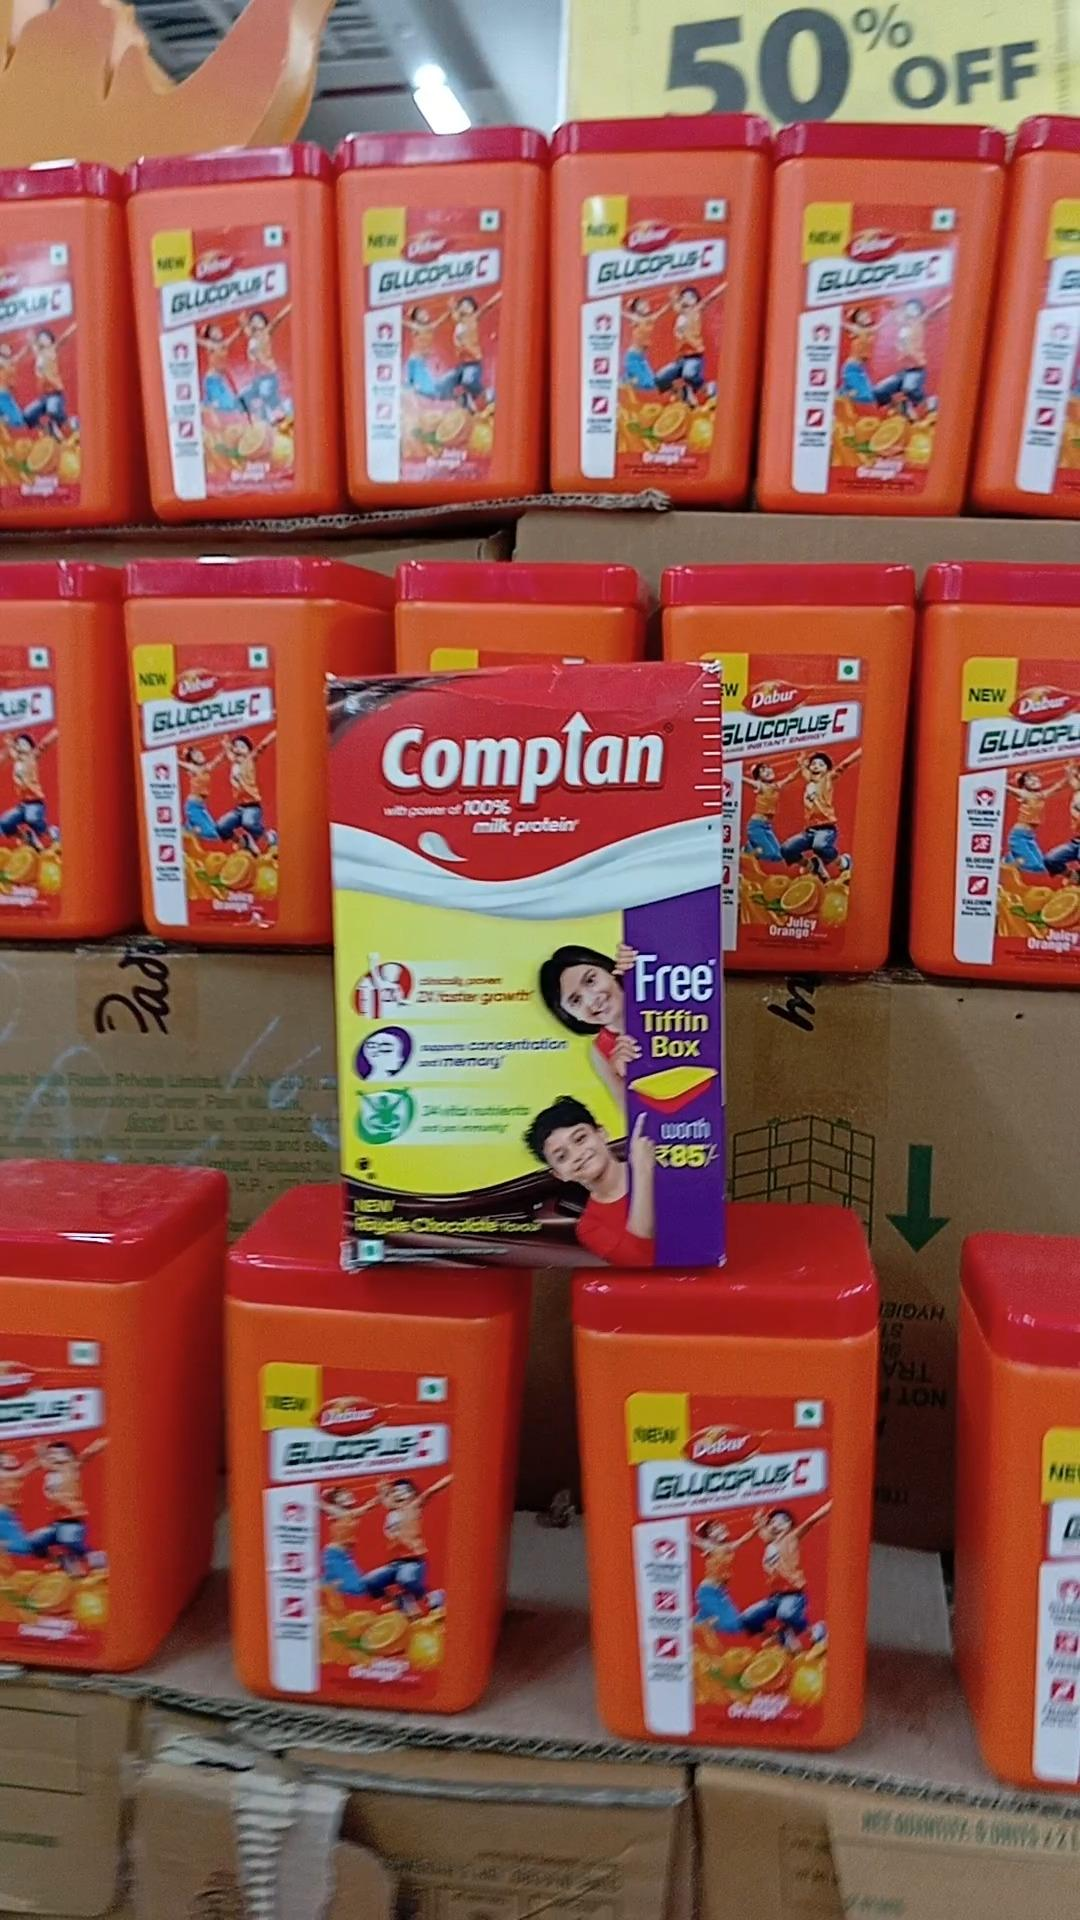COMPLAN_CHOCOLATE_500_GMS_PACK: (330, 671, 727, 1259)
